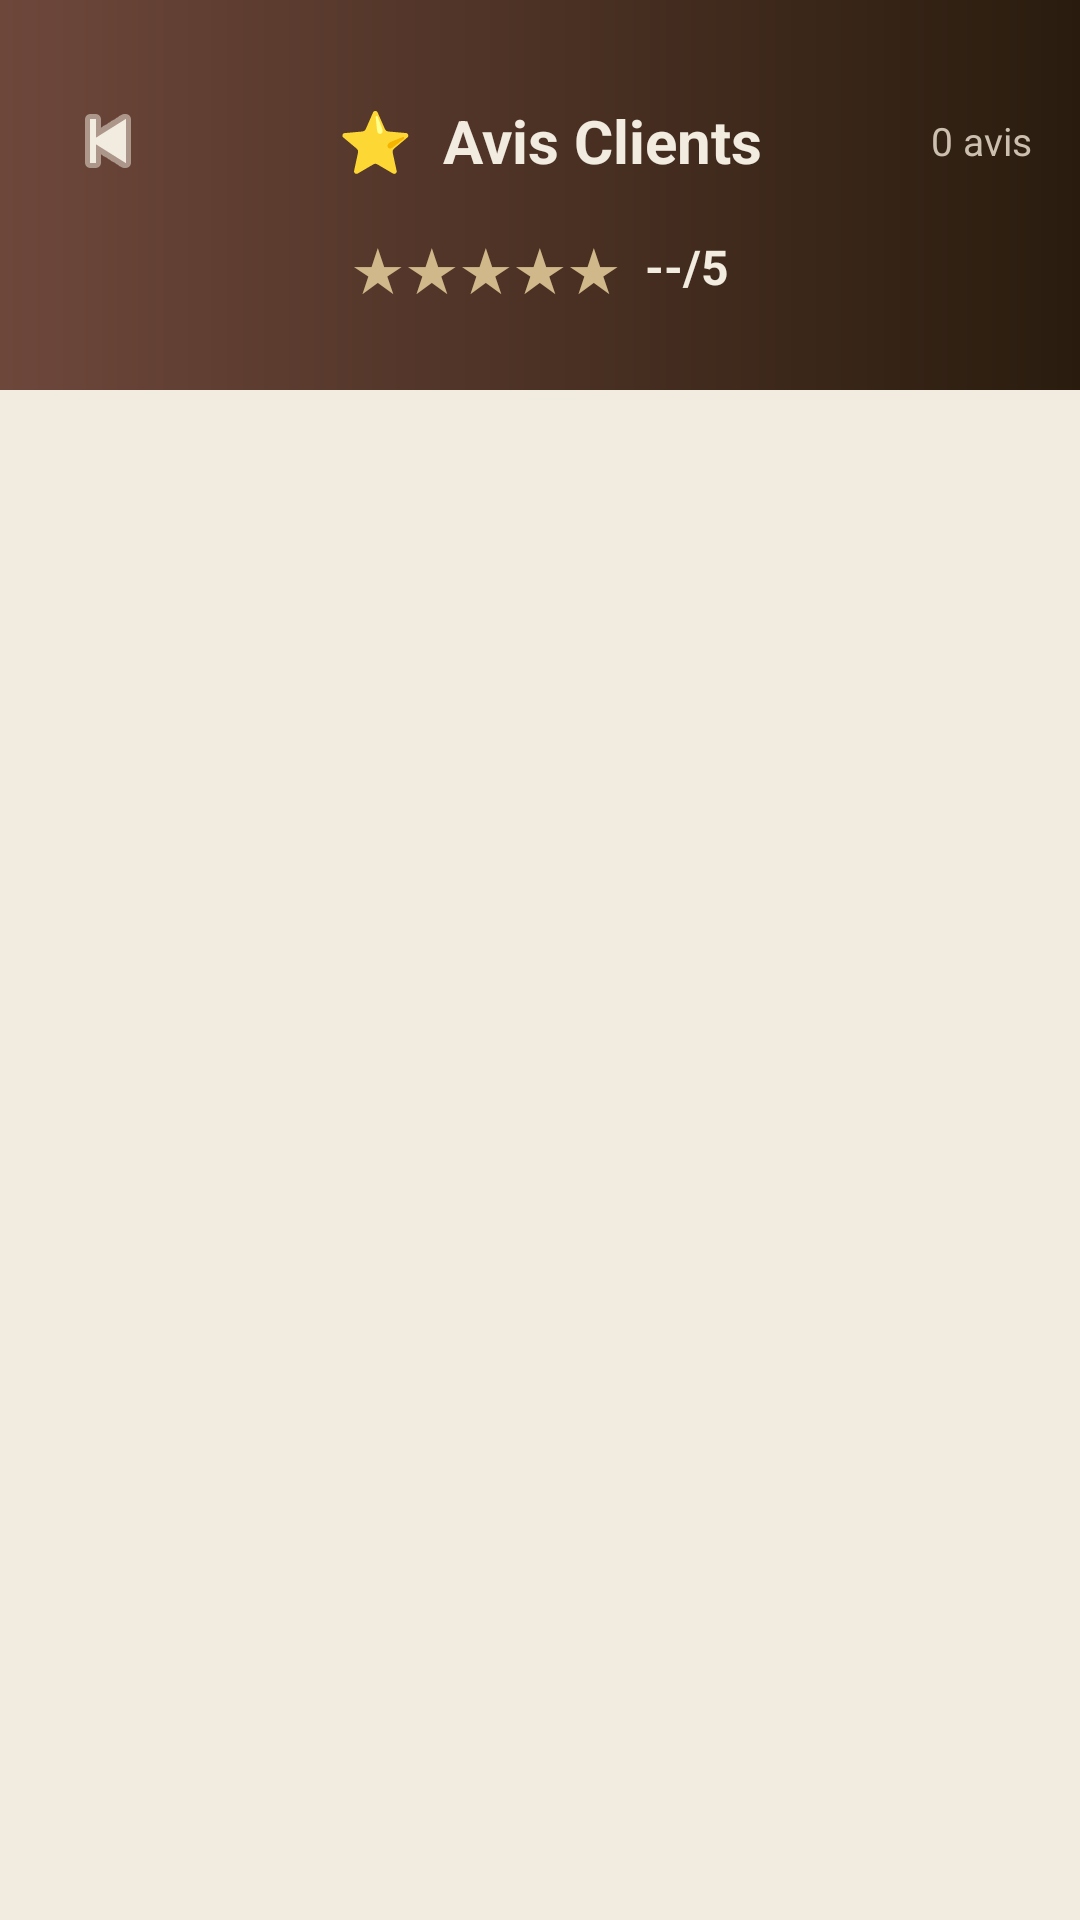

Point at icon controls on the screen. Image size 1080px×1920px, points as [x,y].
previous: [108,141]
